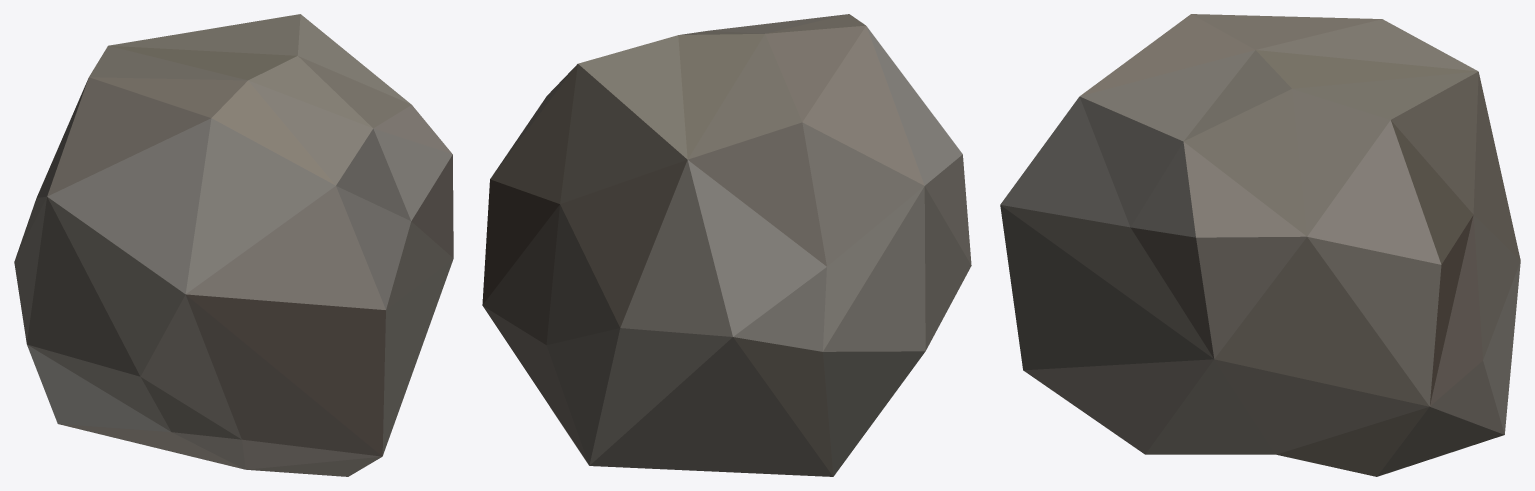
File: Prop-Boulder_D.fbx
The picture shows the model from 3 angles, left to right: view 1: azimuth 30°, elevation 25°; view 2: azimuth 150°, elevation 25°; view 3: azimuth 270°, elevation 25°; orthographic projection. The views are drawn at different scales.
Parts seen in each view (by area): view 1: Prop-Boulder_D; view 2: Prop-Boulder_D; view 3: Prop-Boulder_D.
Part boxes in pixels (box(x1,y1,x2,y2)): Prop-Boulder_D: box(14, 14, 453, 476); Prop-Boulder_D: box(482, 14, 971, 476); Prop-Boulder_D: box(1000, 14, 1520, 476).
Size of the model in its own units: 130 by 121 by 149.
